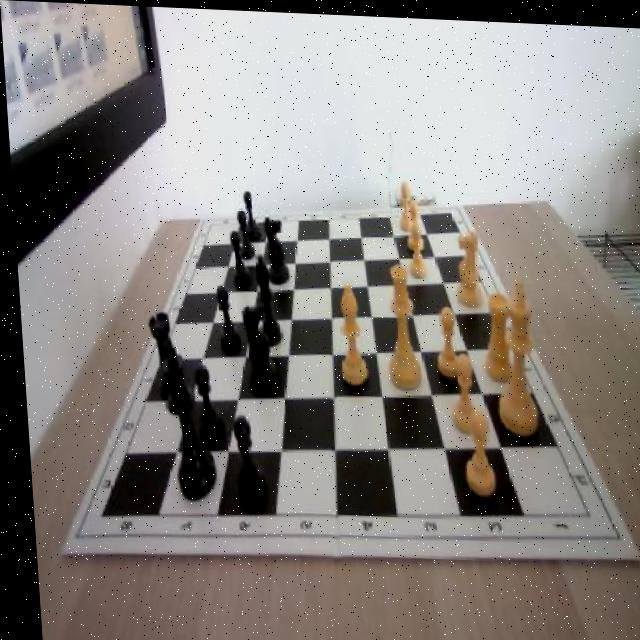bishop: (252, 251, 280, 349)
black-bishop: (156, 336, 212, 502)
black-king: (238, 303, 274, 396), (260, 212, 287, 283)
black-knight: (225, 416, 260, 505), (190, 360, 220, 446), (211, 281, 238, 352), (227, 231, 247, 287), (240, 190, 258, 242), (233, 208, 252, 257)
black-queen: (143, 309, 182, 396)
black-rook: (331, 279, 364, 382)
white-bishop: (487, 277, 540, 432)
white-king: (450, 225, 480, 302)
white-knight: (455, 406, 493, 496), (439, 350, 472, 433), (429, 301, 459, 373), (402, 218, 424, 275), (403, 195, 422, 249), (396, 177, 411, 227)
white-pawn: (379, 259, 418, 387)
white-queen: (476, 288, 511, 378)
